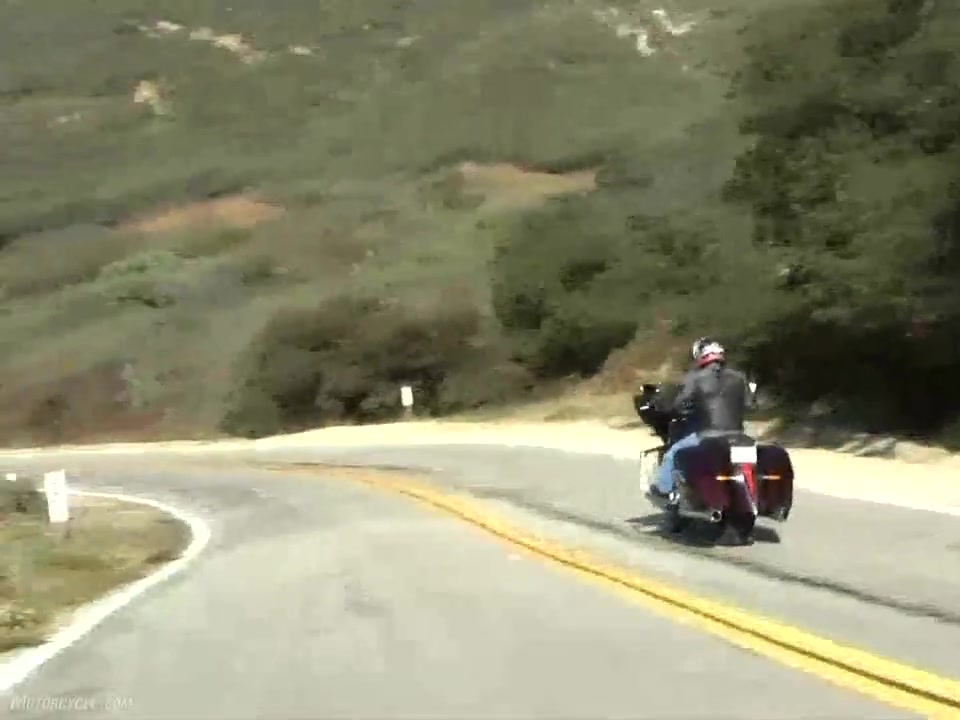motorbike: (635, 374, 795, 554)
